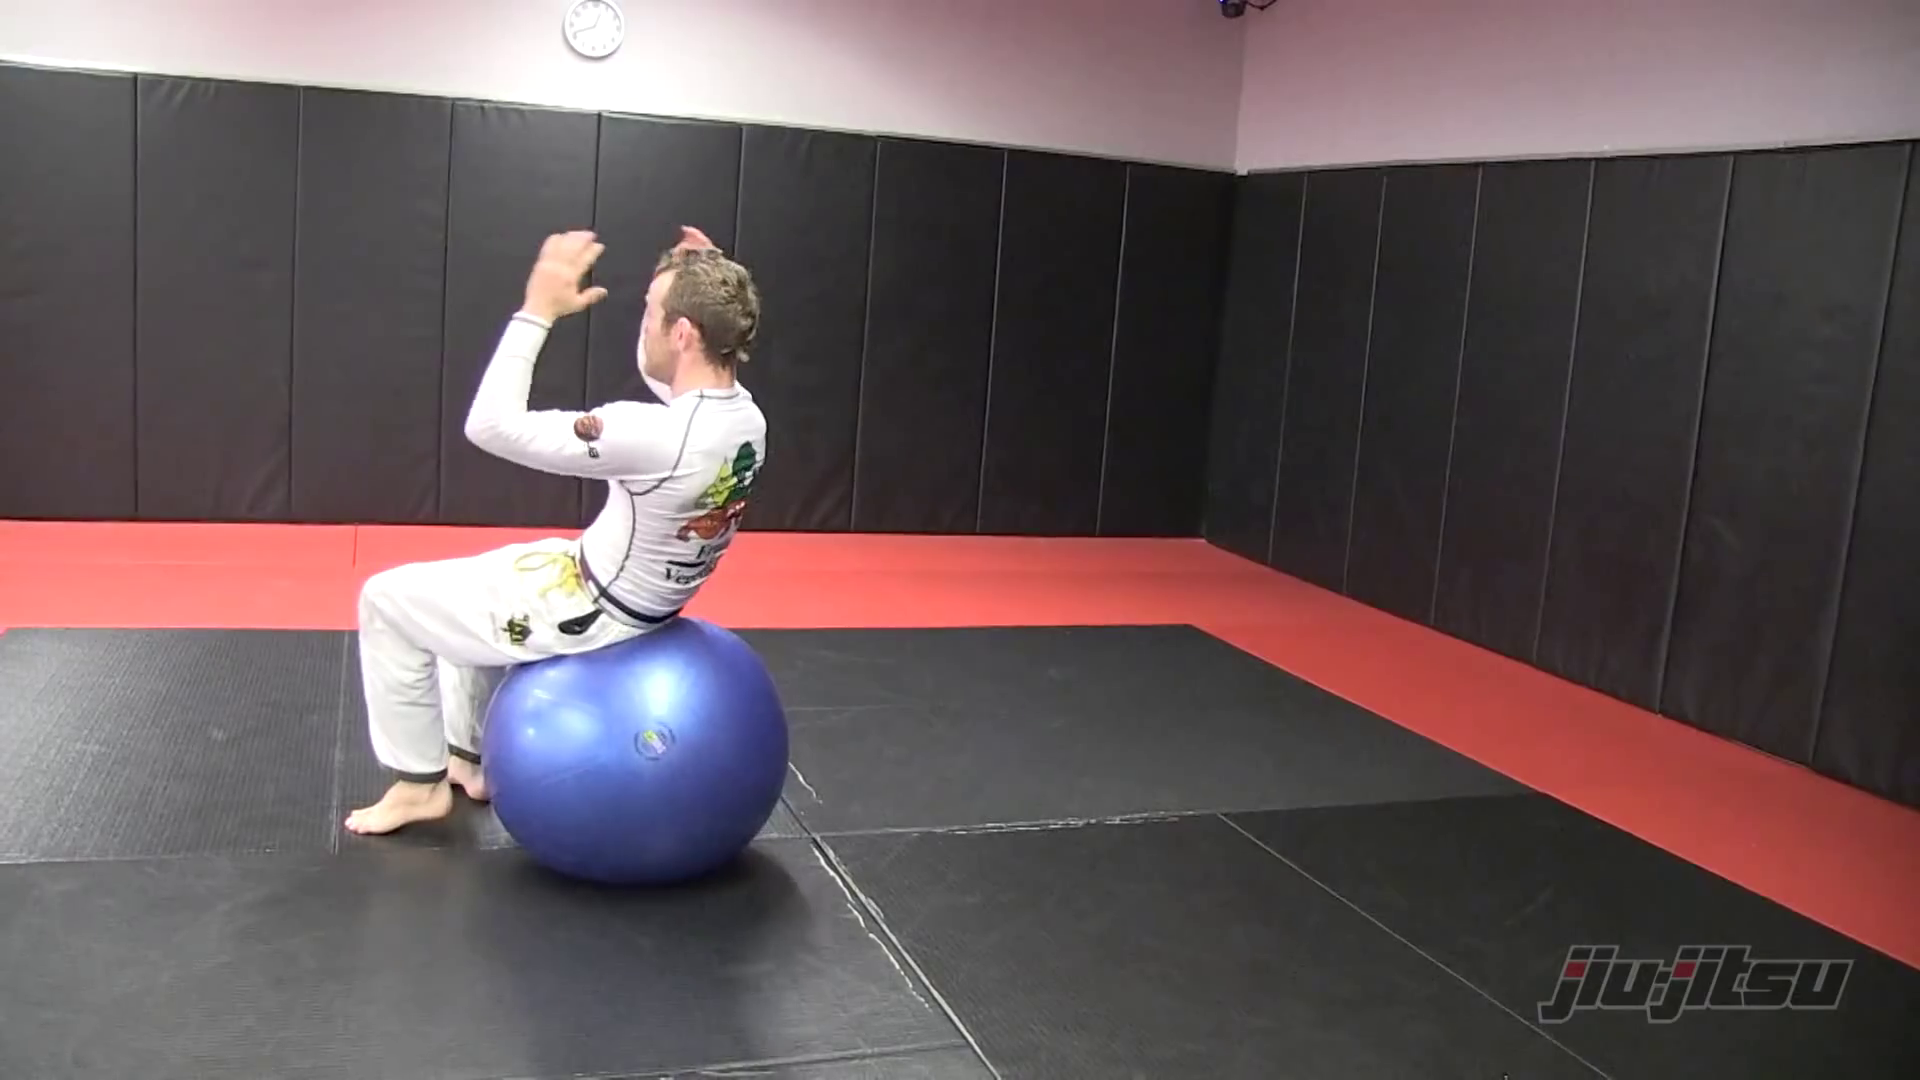yogaball: (465, 605, 803, 891)
